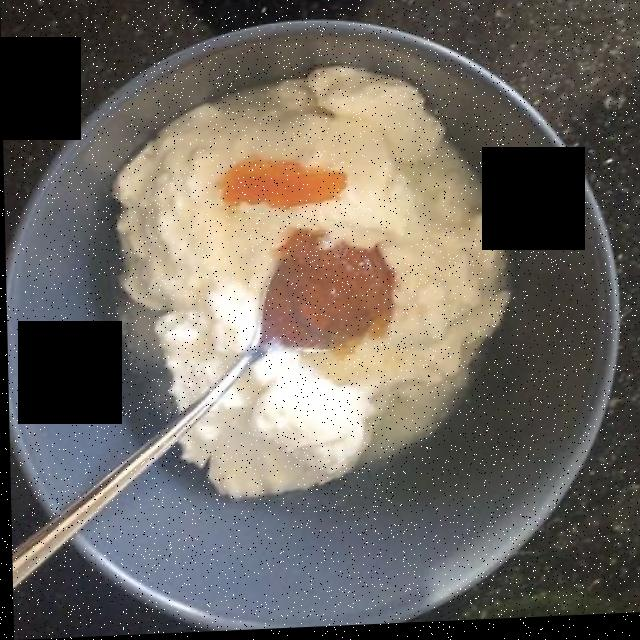jam: (214, 167, 410, 356)
